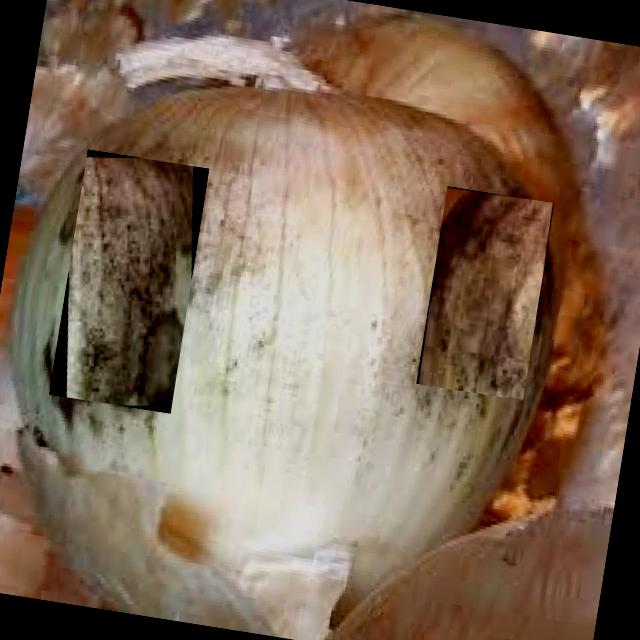mould: (49, 150, 209, 413), (416, 187, 554, 400)
